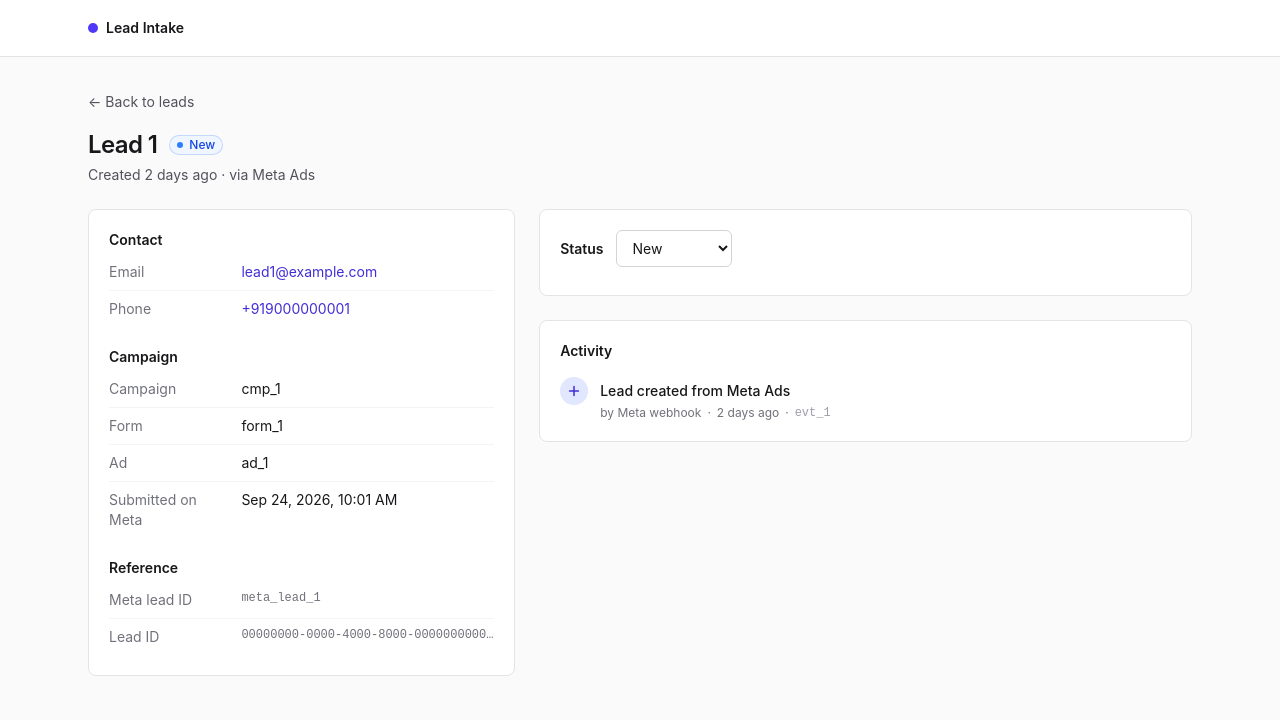
lead detail: status updates (server-authoritative) › applies the PATCH response immediately, before the background refetch returns
Expected: the list named "Activity" is shown, [560,377,831,420]
Step 1. Select "Qualified" in the dropdown labelled "Status" → {"x": 674, "y": 248}, box [616,230,732,267]
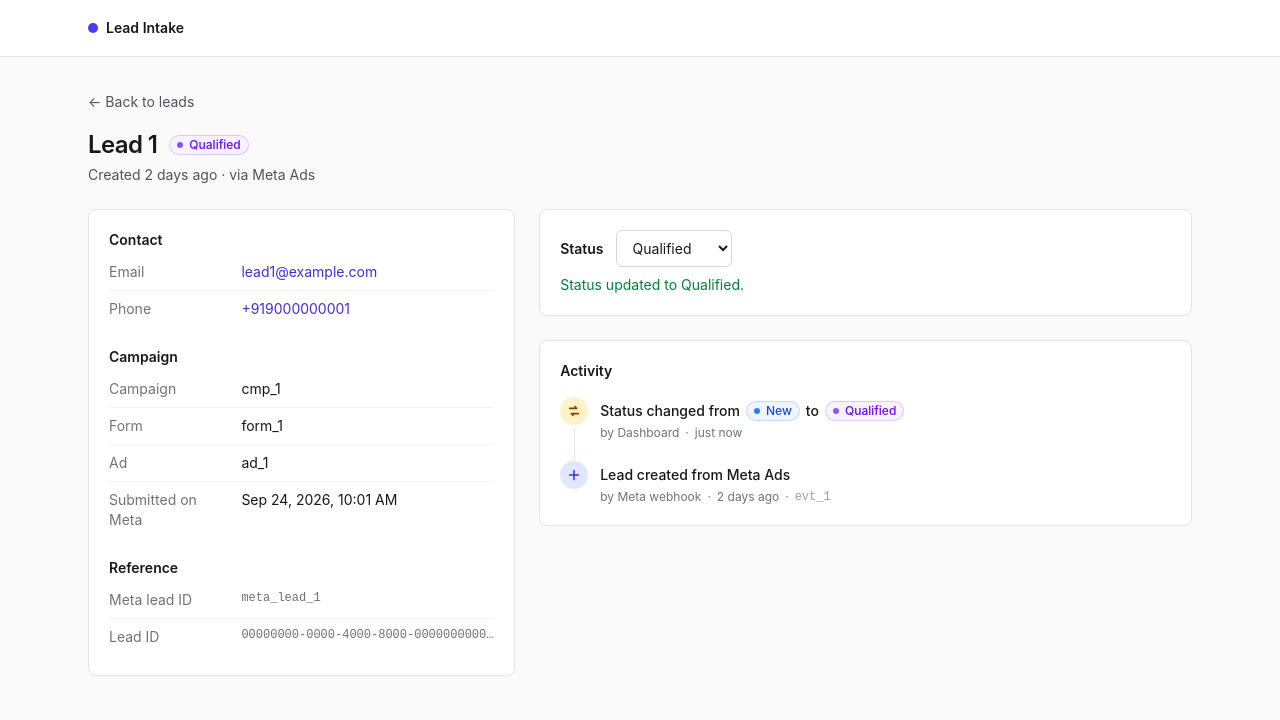
Result: the list item "Status changed from New to Qualified by Dashboard · just now" is shown at [560,397,904,440]
